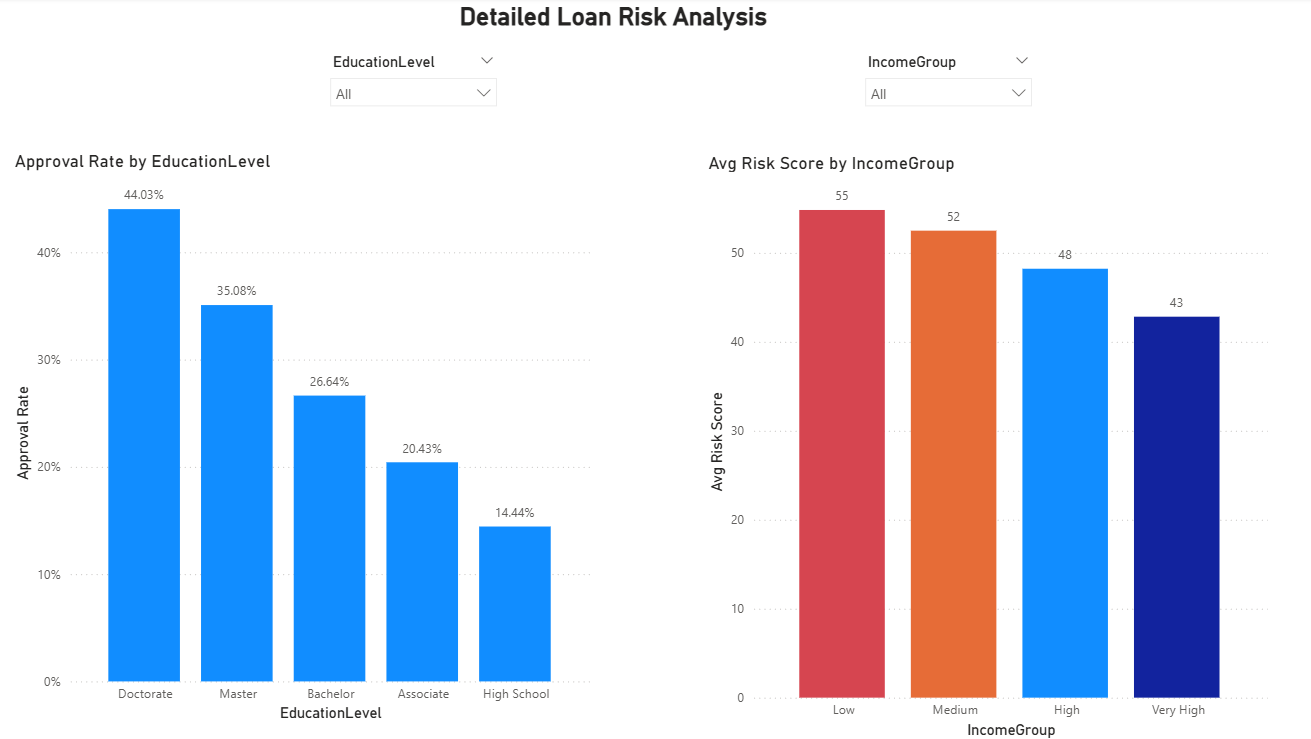

Layout of this report page (visuals, bound fields, positions):
{"tool":"powerbi","page":{"name":"Page 2","canvas":[1280,720],"ordinal":1},"visuals":[{"type":"columnChart","fields":{"Category":["LoanData.EducationLevel"],"Y":["LoanData.Approval Rate"]},"box":[16.9,148.4,565.8,556.2],"z":0},{"type":"clusteredColumnChart","fields":{"Category":["LoanData.IncomeGroup"],"Y":["LoanData.Avg Risk Score"]},"box":[686.5,149.6,550.1,570.6],"z":1},{"type":"textbox","box":[446.4,0,386.1,49.5],"z":2},{"type":"slicer","fields":{"Values":["LoanData.EducationLevel"]},"box":[316.1,49.5,181,62.7],"z":4},{"type":"slicer","fields":{"Values":["LoanData.IncomeGroup"]},"box":[832.4,49.5,181,62.7],"z":5}]}

Visuals, with their boxes in screenshot pixels (x1, y1, x2, y2), scaled from the page's 1280x720 canvas onto the 1311x739 screenshot:
columnChart - LoanData.EducationLevel x LoanData.Approval Rate: 17/152/597/723
clusteredColumnChart - LoanData.IncomeGroup x LoanData.Avg Risk Score: 703/154/1267/738
textbox: 457/0/853/51
slicer - LoanData.EducationLevel: 324/51/509/115
slicer - LoanData.IncomeGroup: 853/51/1038/115
